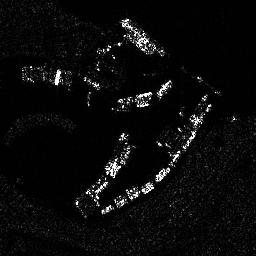ship: (124, 34, 156, 54)
